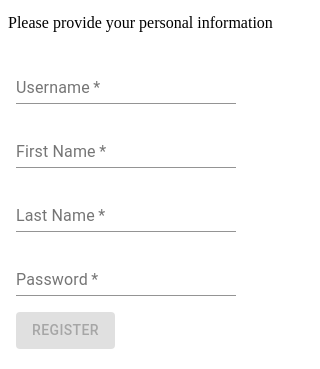
Test: RegisterForm testing › check btn disabled for username: test, firstName: test, lastName: test, password: test
In the field labelled "Username *": (126, 88) x1=16 y1=72 x2=236 y2=104, type "test"
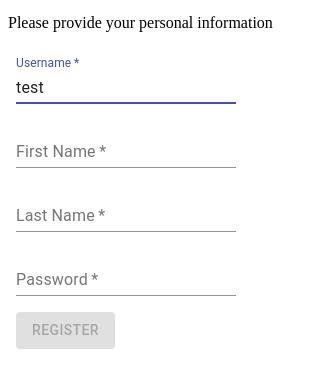
In the field labelled "First Name *": (126, 152) x1=16 y1=136 x2=236 y2=168, type "test"
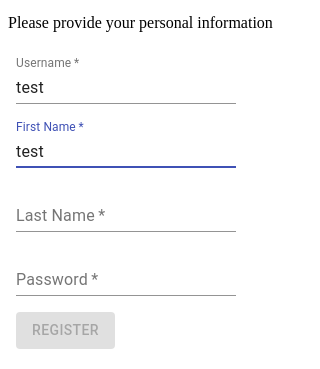
In the field labelled "Last Name *": (126, 216) x1=16 y1=200 x2=236 y2=232, type "test"
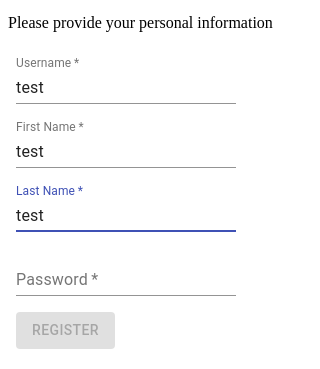
In the password field labelled "Password *": (126, 280) x1=16 y1=264 x2=236 y2=296, type "test"
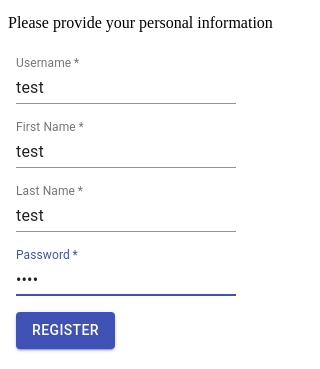
Expected: the button is enabled, x1=16 y1=312 x2=115 y2=348
